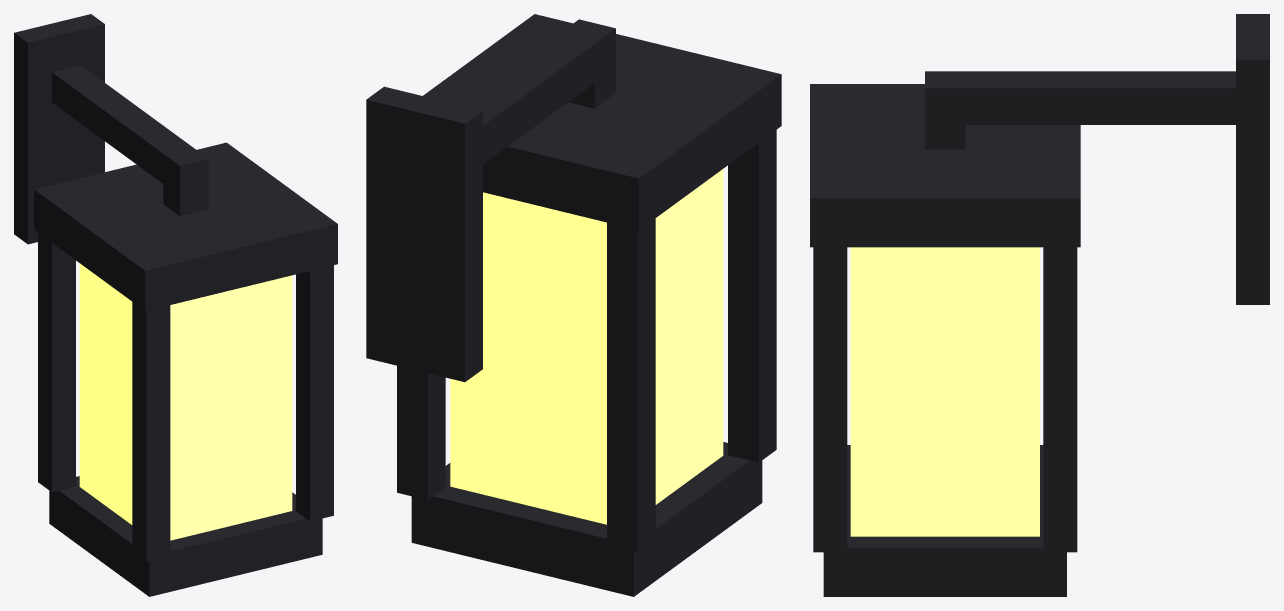
The model's file is ntu-wall-lantern.glb.
3 views of the same model, side by side, from view 1: azimuth 30°, elevation 25°; view 2: azimuth 150°, elevation 25°; view 3: azimuth 270°, elevation 25° (orthographic). The views are drawn at different scales.
Visible parts, largest first — view 1: box-prop; view 2: box-prop; view 3: box-prop.
Boxes of the visible parts, bbox=[...] form: box-prop: bbox=[14, 14, 337, 596]; box-prop: bbox=[366, 14, 781, 596]; box-prop: bbox=[810, 14, 1269, 596].
Bounding box in the file's own units: 0.4 × 0.83 × 0.68.
